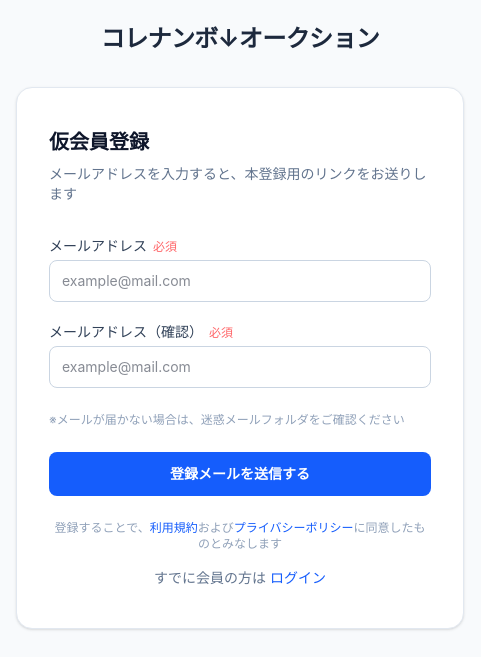
Test case: UserRegistrationPage › API通信 › VALIDATION_ERRORのとき、フィールドエラーが表示される
Type "used@example.com" into the field with placeholder "example@mail.com".
click(240, 281); type("used@example.com")  # box [49, 260, 431, 302]
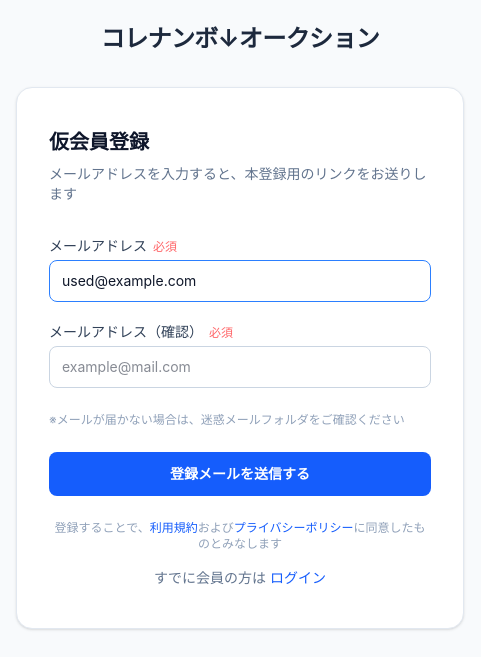
Type "used@example.com" into the field with placeholder "example@mail.com".
click(240, 367); type("used@example.com")  # box [49, 346, 431, 388]
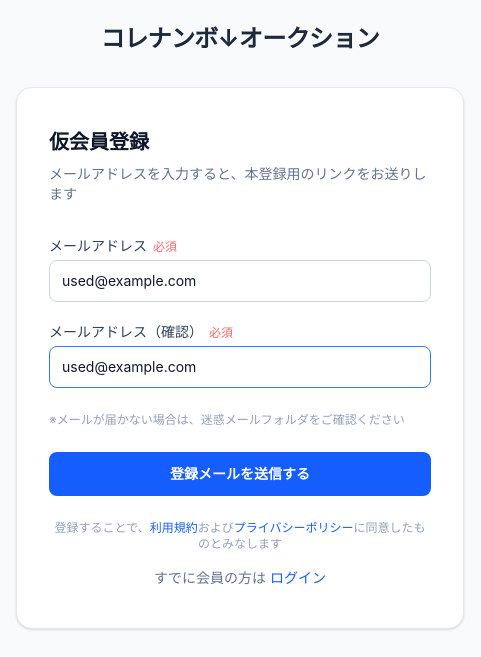
Click the button "登録メールを送信する".
click(240, 474)  # box [49, 452, 431, 496]
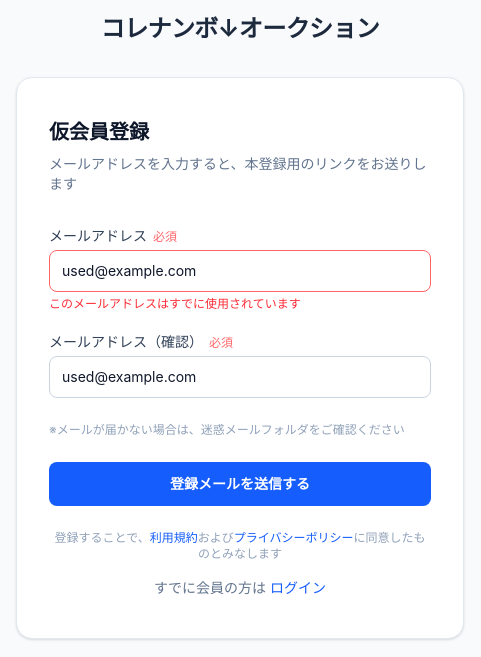
expect the text "このメールアドレスはすでに使用されています" is shown: met, box [49, 296, 301, 311]
